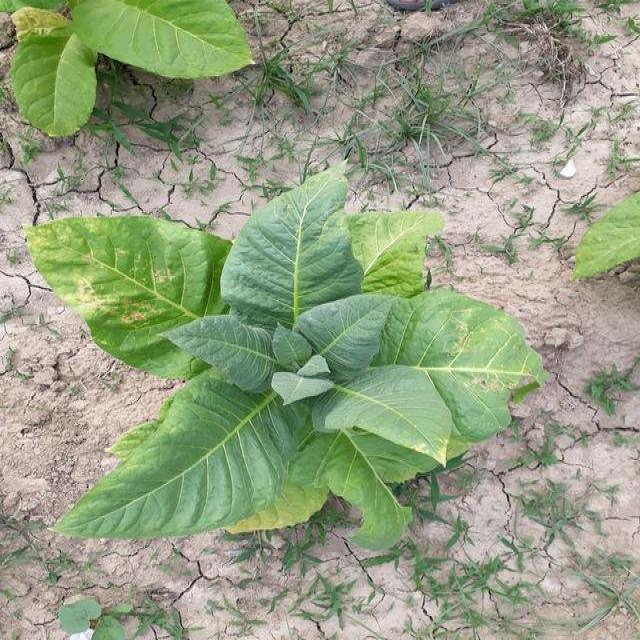crop: (29, 195, 556, 535), (0, 6, 261, 115), (573, 180, 640, 281)
